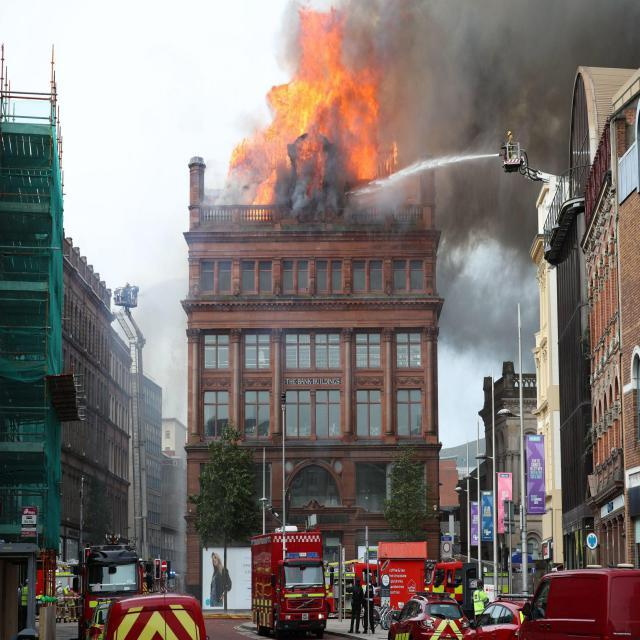Fire: (226, 12, 402, 212)
